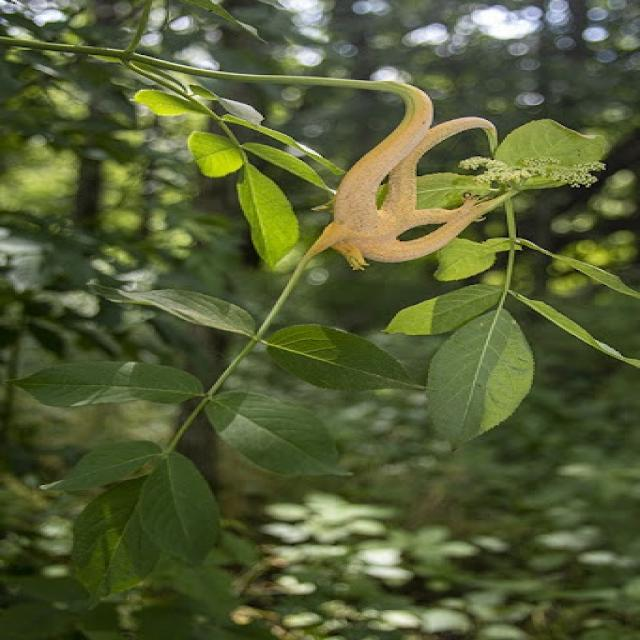Elderberry_rust: (296, 79, 505, 272)
